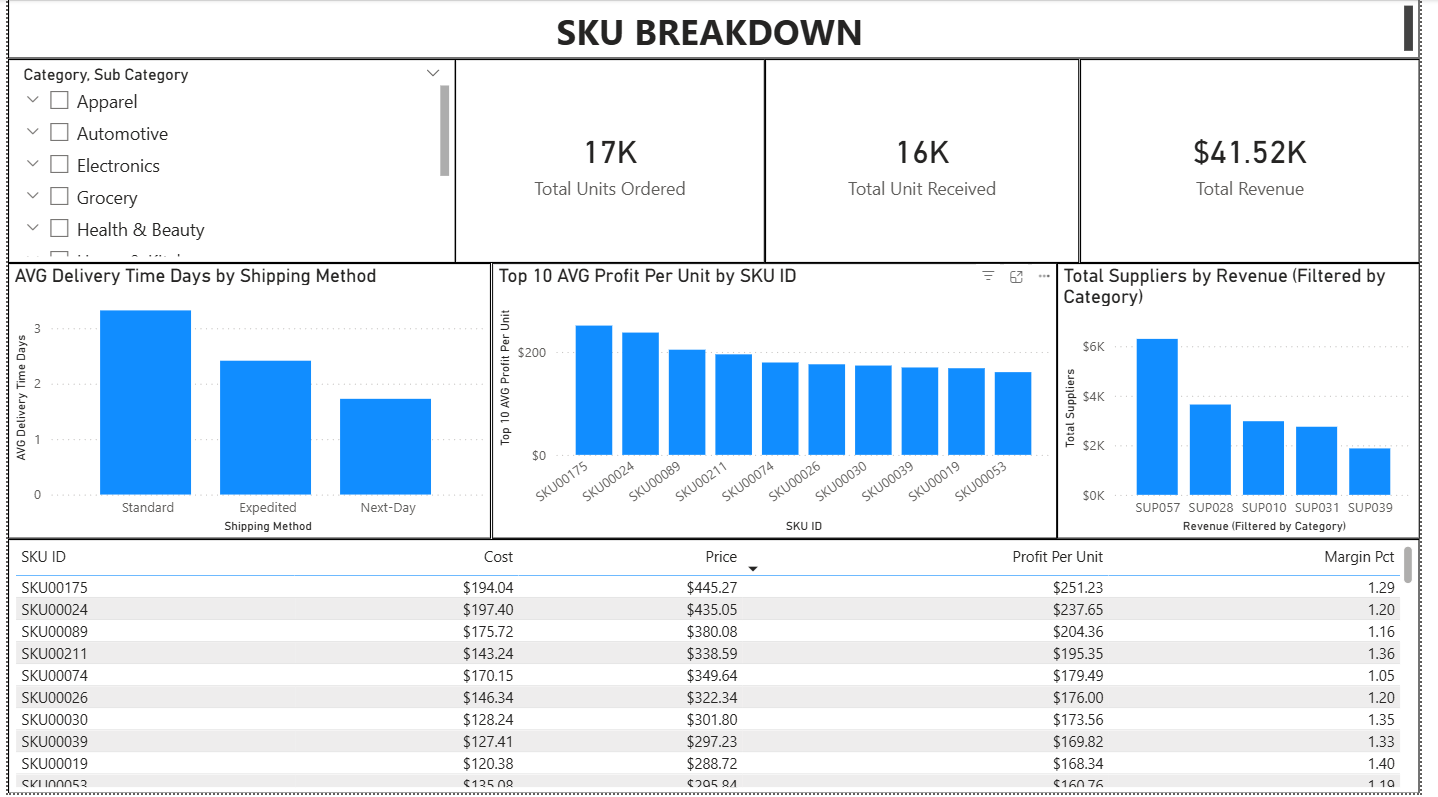

The dashboard page shown, as its layout file describes it:
{"tool":"powerbi","page":{"name":"SKU Breakdown","canvas":[1280,720],"ordinal":1},"visuals":[{"type":"slicer","fields":{"Values":["sku_clean.category","sku_clean.sub_category"]},"box":[0,54.5,405.6,184.8],"z":0},{"type":"clusteredColumnChart","fields":{"Y":["Avg(sku_clean.profit_per_unit)"],"Category":["sku_clean.sku_id"]},"box":[438.7,239.3,512.6,250],"z":1000},{"type":"card","fields":{"Values":["Sum(supplier_clean.units_ordered)"]},"box":[405.6,54.5,281.1,184.8],"z":2000},{"type":"card","fields":{"Values":["Sum(supplier_clean.units_received)"]},"box":[686.7,54.5,285,184.8],"z":3000},{"type":"clusteredColumnChart","fields":{"Category":["orders_clean.shipping_method"],"Y":["Avg(orders_clean.delivery_time_days)"]},"box":[0,239.3,437.7,250],"z":4000},{"type":"tableEx","fields":{"Values":["sku_clean.sku_id","sku_clean.cost","sku_clean.price","sku_clean.profit_per_unit","sku_clean.margin_pct"]},"box":[0,489.2,1280,230.5],"z":5000},{"type":"card","fields":{"Values":["sku_clean.Total Revenuee"]},"box":[971.7,54.5,308.3,184.8],"z":6000},{"type":"columnChart","fields":{"Category":["sku_clean.supplier_id"],"Y":["sku_clean.Total Revenuee"]},"box":[951.2,239,328.8,250.2],"z":7000},{"type":"textbox","box":[0,0,1280,54.5],"z":8000}]}

Visuals, with their boxes in screenshot pixels (x1, y1, x2, y2), scaled from the page's 1280x720 canvas onto the 1438x797 screenshot:
slicer - sku_clean.category x sku_clean.sub_category: box(0, 60, 456, 265)
clusteredColumnChart - Avg(sku_clean.profit_per_unit) x sku_clean.sku_id: box(493, 265, 1069, 542)
card - Sum(supplier_clean.units_ordered): box(456, 60, 771, 265)
card - Sum(supplier_clean.units_received): box(771, 60, 1092, 265)
clusteredColumnChart - orders_clean.shipping_method x Avg(orders_clean.delivery_time_days): box(0, 265, 492, 542)
tableEx - sku_clean.sku_id x sku_clean.cost: box(0, 542, 1437, 796)
card - sku_clean.Total Revenuee: box(1092, 60, 1437, 265)
columnChart - sku_clean.supplier_id x sku_clean.Total Revenuee: box(1069, 265, 1437, 542)
textbox: box(0, 0, 1437, 60)
